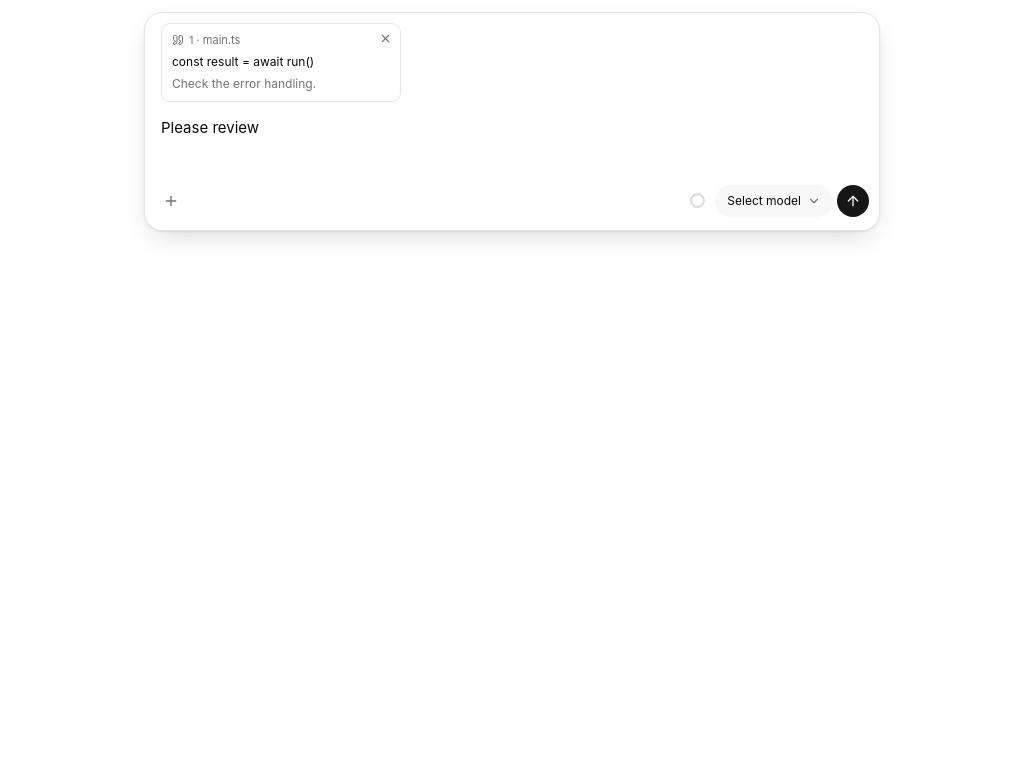
Test case: preserves a comment being typed in the excerpt card while its earlier snapshot is acknowledged
The width and height of the screenshot is (1024, 768).
Click the button named "Send" at (853, 200), box [837,184,869,216]
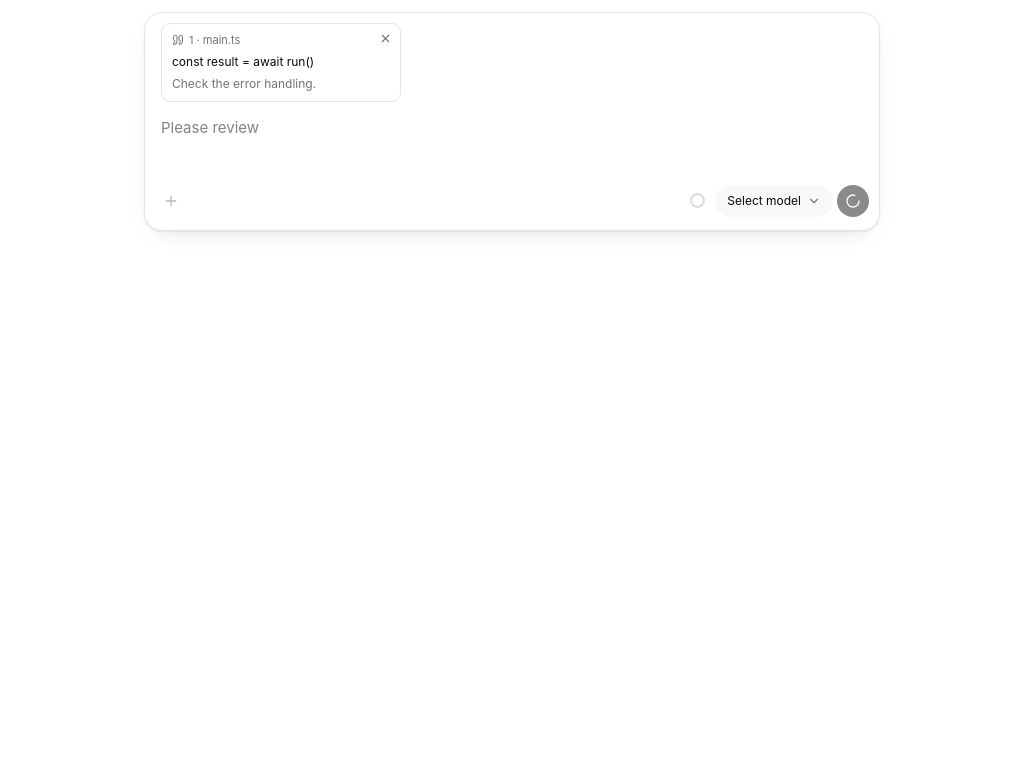
Click the button with aria-label "Open excerpt 1: main.ts" at (268, 62), box [162,24,375,100]
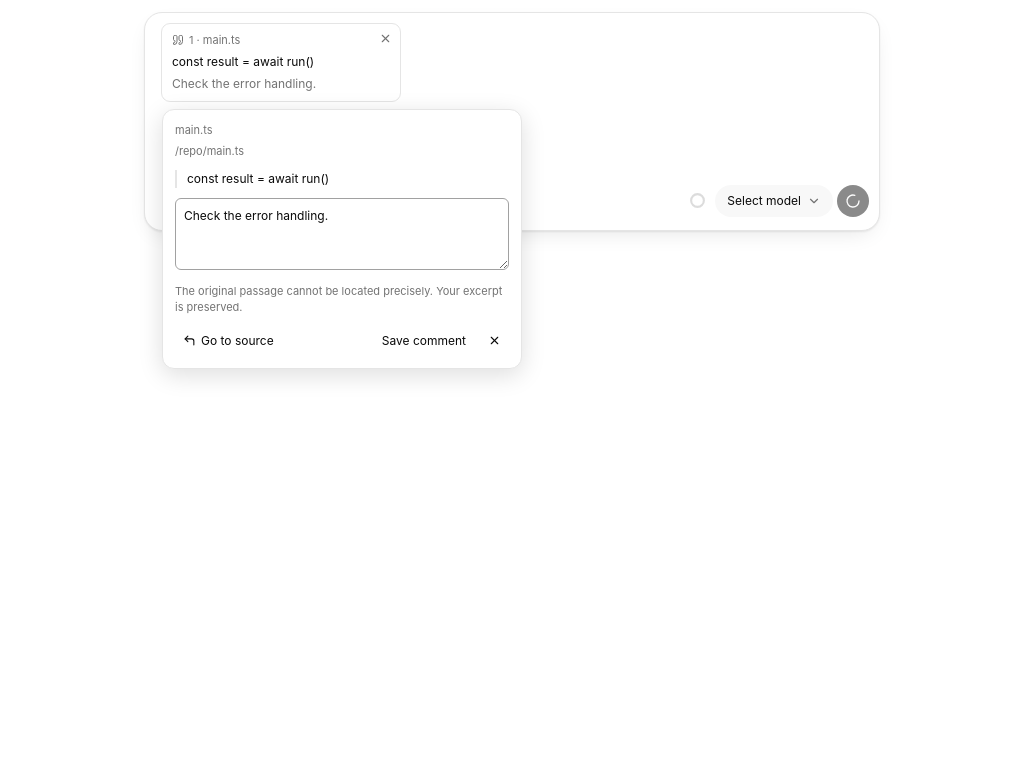
Clear the text box named "Excerpt comment (optional)" at (342, 234), box [175,198,509,270]
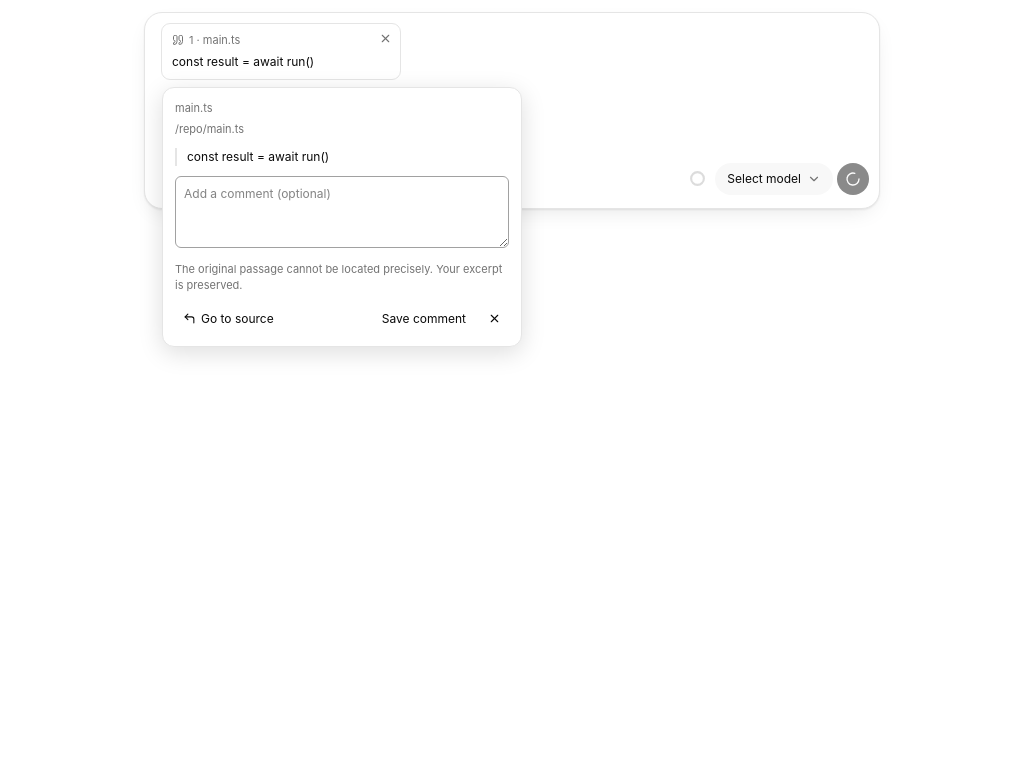
Type "Still editing" into the text box named "Excerpt comment (optional)" at (342, 212), box [175,176,509,248]
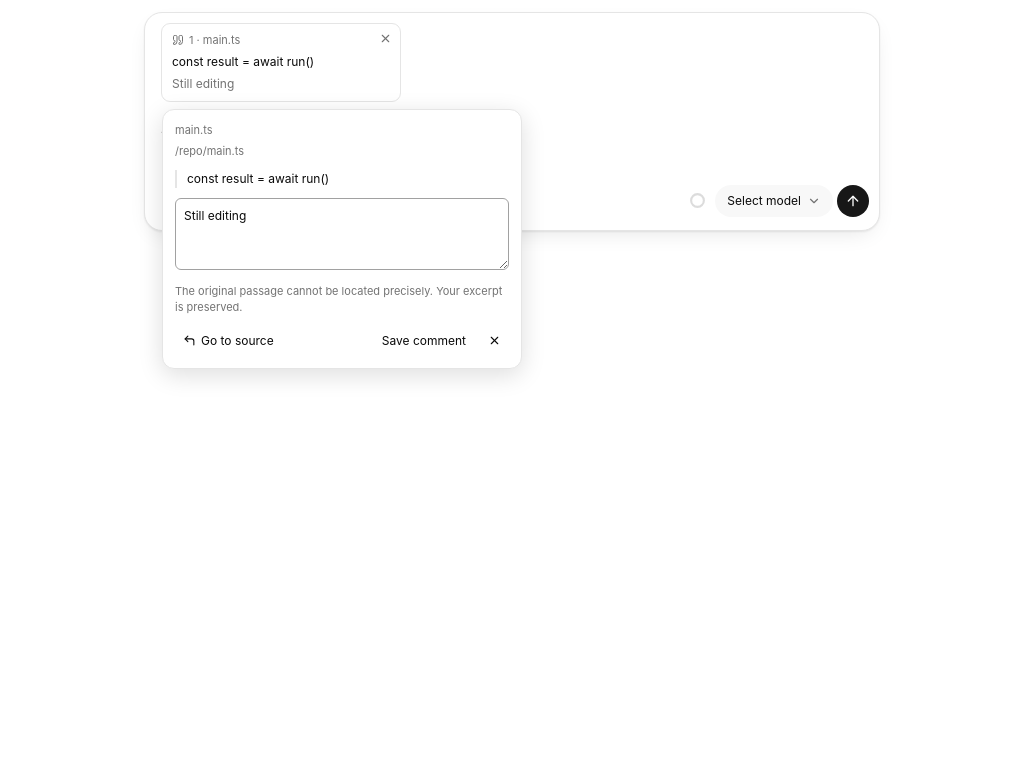
Check: the text "Still editing" is shown, box [172,76,234,90]
